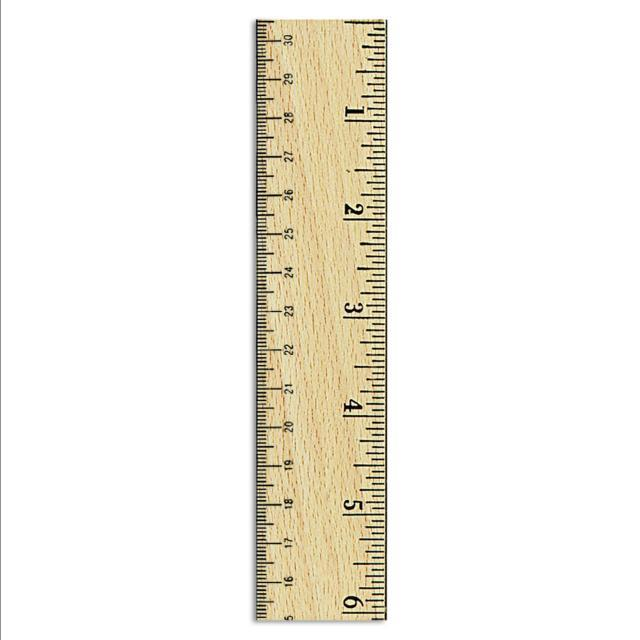Ruler: (232, 11, 402, 636)
